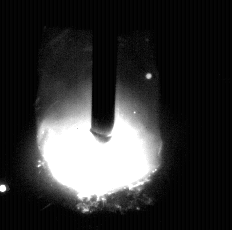arame: (92, 0, 116, 142)
poca: (36, 0, 164, 230)
